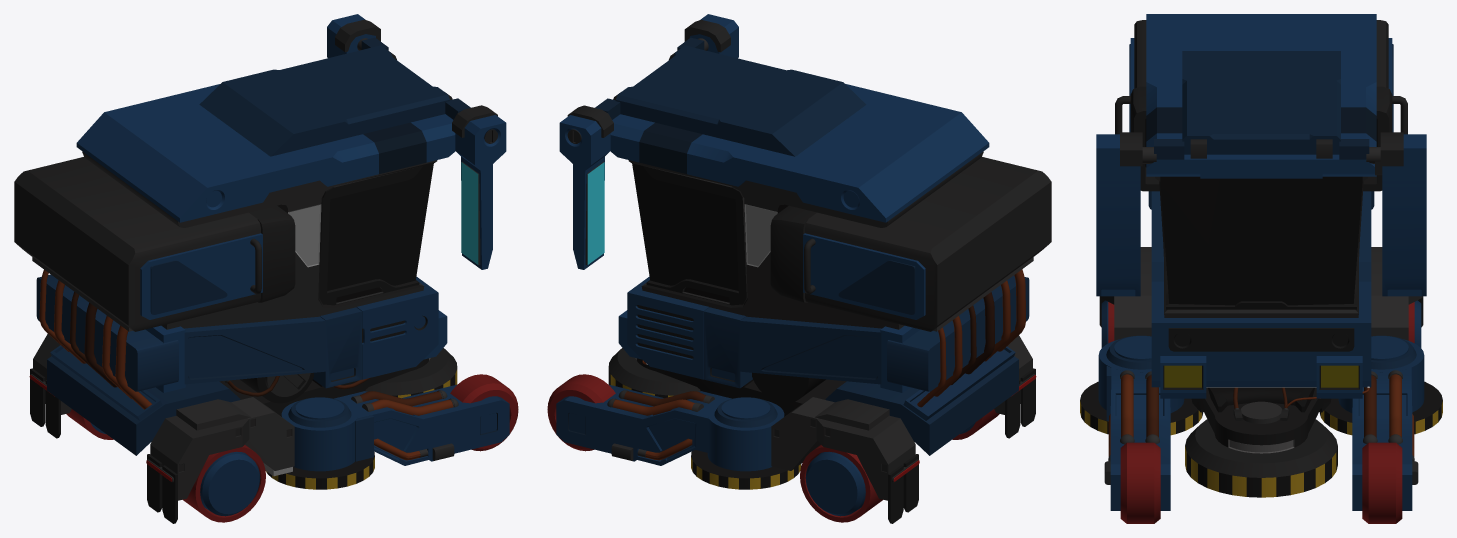
The model's file is combine_harvester_druft.obj.
The picture shows the model from 3 angles, left to right: view 1: azimuth 30°, elevation 25°; view 2: azimuth 150°, elevation 25°; view 3: azimuth 270°, elevation 25°; orthographic projection. The views are drawn at different scales.
Visible parts, largest first — view 1: Cube.002_Cube.003, Cube.005_Cube.006, Cube_Cube.001, Cube.015, Cube.004_Cube.005, Cube.007_Cube.008, Cube.010, Cube.001_Cube.002, Cube.009, Cube.011, Cube.026_Cube.028, Cube.016 (+28 smaller); view 2: Cube.002_Cube.003, Cube.005_Cube.006, Cube_Cube.001, Cube.015, Cube.004_Cube.005, Cube.007_Cube.008, Cube.010, Cube.001_Cube.002, Cube.009, Cube.011, Cube.026_Cube.028, Cube.016 (+26 smaller); view 3: Cube_Cube.001, Cube.002_Cube.003, Cube.015, Cube.016, Cube.001_Cube.002, Cylinder_Cylinder.001, Cube.007_Cube.008, Cylinder.004_Cylinder.006, Cube.031_Cube.033, Cylinder.008, Cube.005_Cube.006, Cube.017 (+21 smaller).
Part boxes in pixels (x1,y1,x2,y2): Cube.002_Cube.003: (76,84,455,222); Cube.005_Cube.006: (14,157,295,331); Cube_Cube.001: (82,151,437,329); Cube.015: (199,45,449,156); Cube.004_Cube.005: (184,316,325,384); Cube.007_Cube.008: (334,384,509,465); Cube.010: (47,356,240,455); Cube.001_Cube.002: (356,276,438,379); Cube.009: (36,274,178,391); Cube.011: (33,334,249,500); Cube.026_Cube.028: (140,233,262,319); Cube.016: (327,14,506,269); Cube.002_Cube.003: (610,84,989,222); Cube.005_Cube.006: (770,157,1051,331); Cube_Cube.001: (628,151,983,329); Cube.015: (615,45,866,156); Cube.004_Cube.005: (740,316,881,384); Cube.007_Cube.008: (556,384,731,465); Cube.010: (825,356,1018,455); Cube.001_Cube.002: (627,276,709,379); Cube.009: (887,275,1029,391); Cube.011: (816,335,1032,500); Cube.026_Cube.028: (803,233,925,319); Cube.016: (559,14,738,269); Cube_Cube.001: (1155,176,1367,317); Cube.002_Cube.003: (1146,14,1376,176); Cube.015: (1182,51,1340,154); Cube.016: (1096,134,1426,296); Cube.001_Cube.002: (1151,281,1371,387); Cylinder_Cylinder.001: (1185,419,1337,497); Cube.007_Cube.008: (1110,367,1412,510); Cylinder.004_Cylinder.006: (1120,442,1402,523); Cube.031_Cube.033: (1168,328,1354,351); Cylinder.008: (1191,387,1331,453); Cube.005_Cube.006: (1130,20,1392,191); Cube.017: (1160,356,1362,398).
Size of the model in its own units: 4.62 by 3.88 by 3.37.
